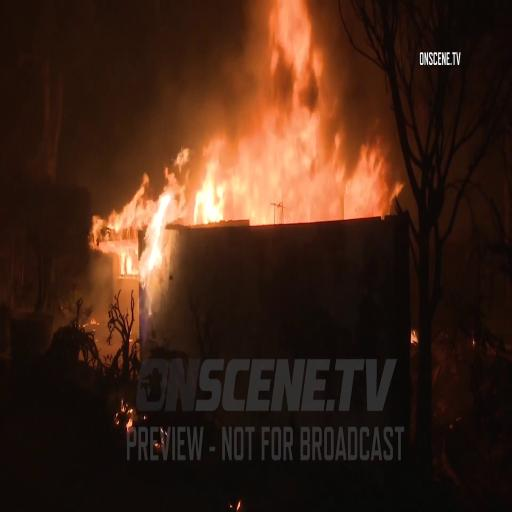fire: (180, 136, 397, 216)
